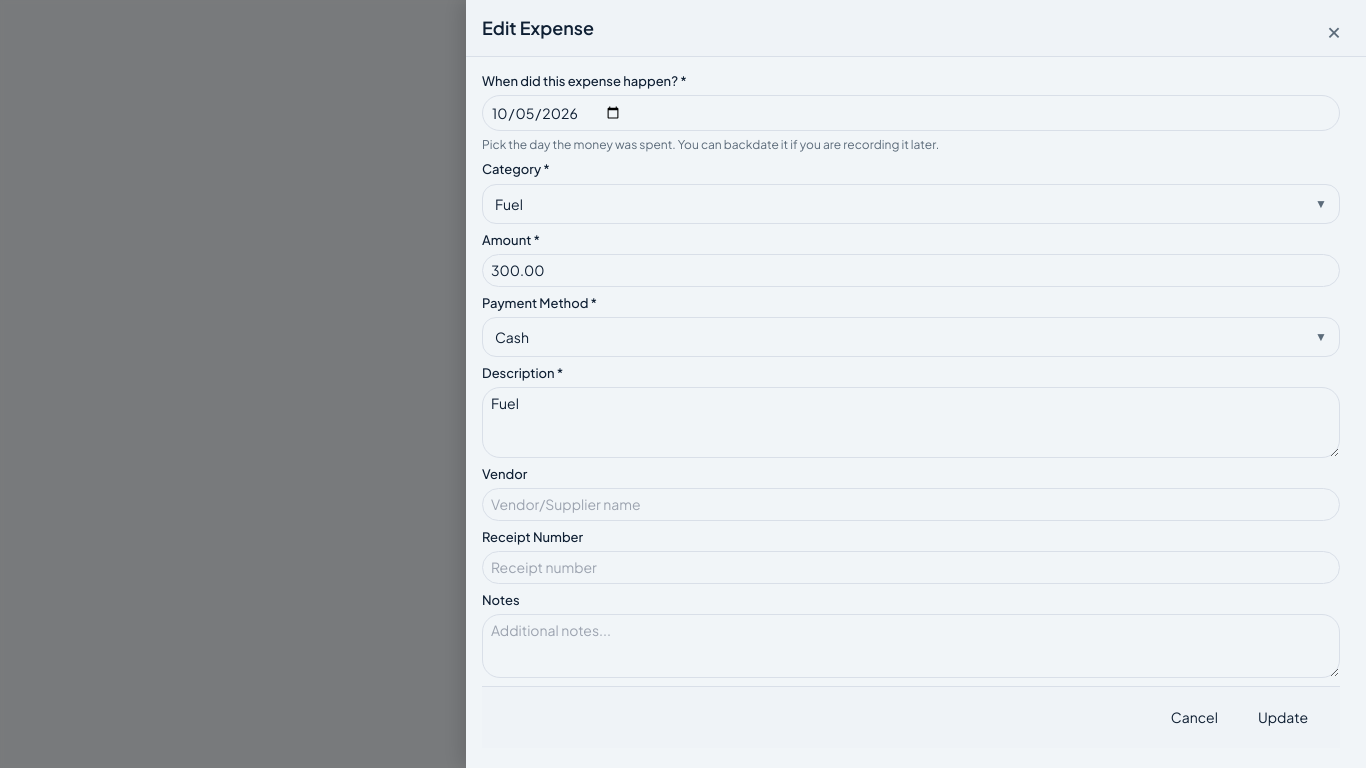
ExpenseForm save errors › asks for a reason when the server needs one the form did not show
Expected: the field labelled "reason" is not shown
What coordinates should you click on to do the following:
click the button "Update"
I would click on:
 (1283, 718)
Its box is [1242,699,1324,736].
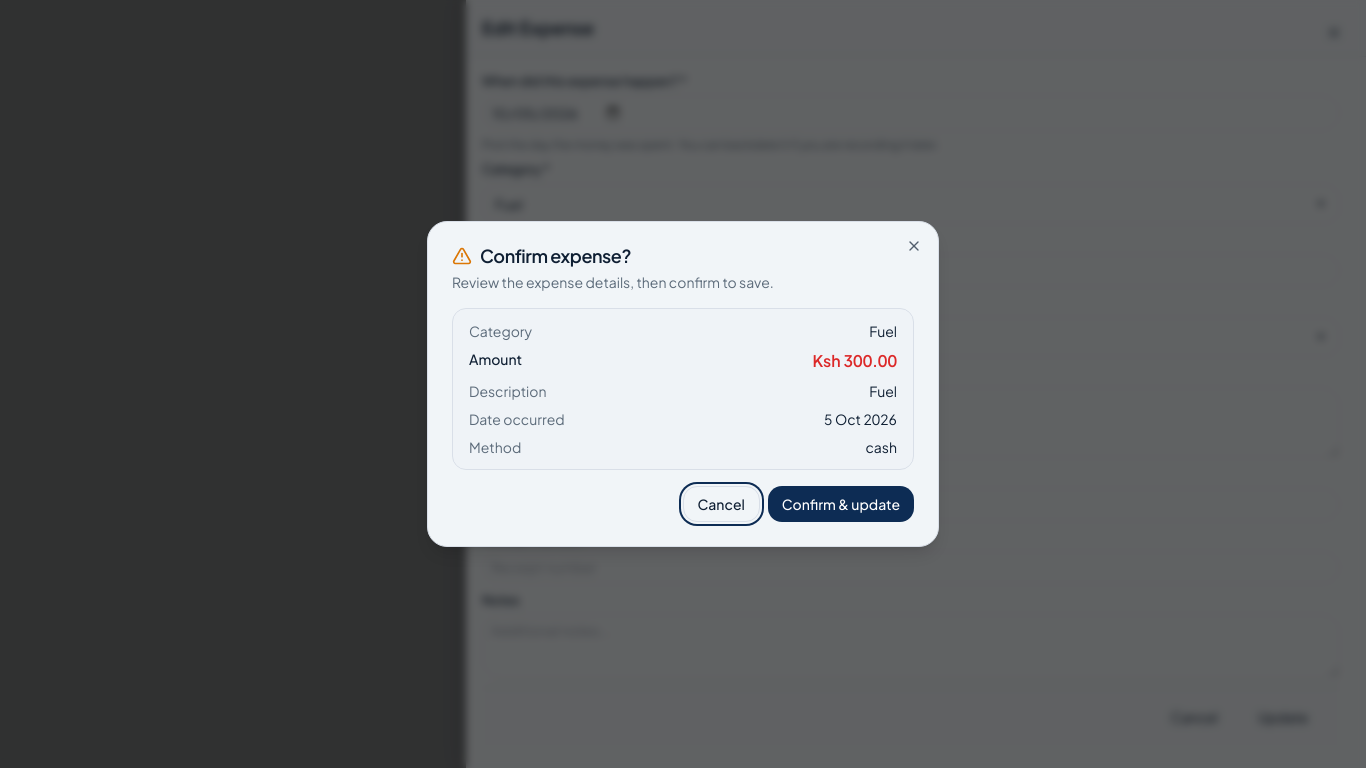
What coordinates should you click on to do the following:
click the button "Confirm & update"
I would click on:
 (841, 504)
Its box is [768,486,914,522].
(page scrolled)
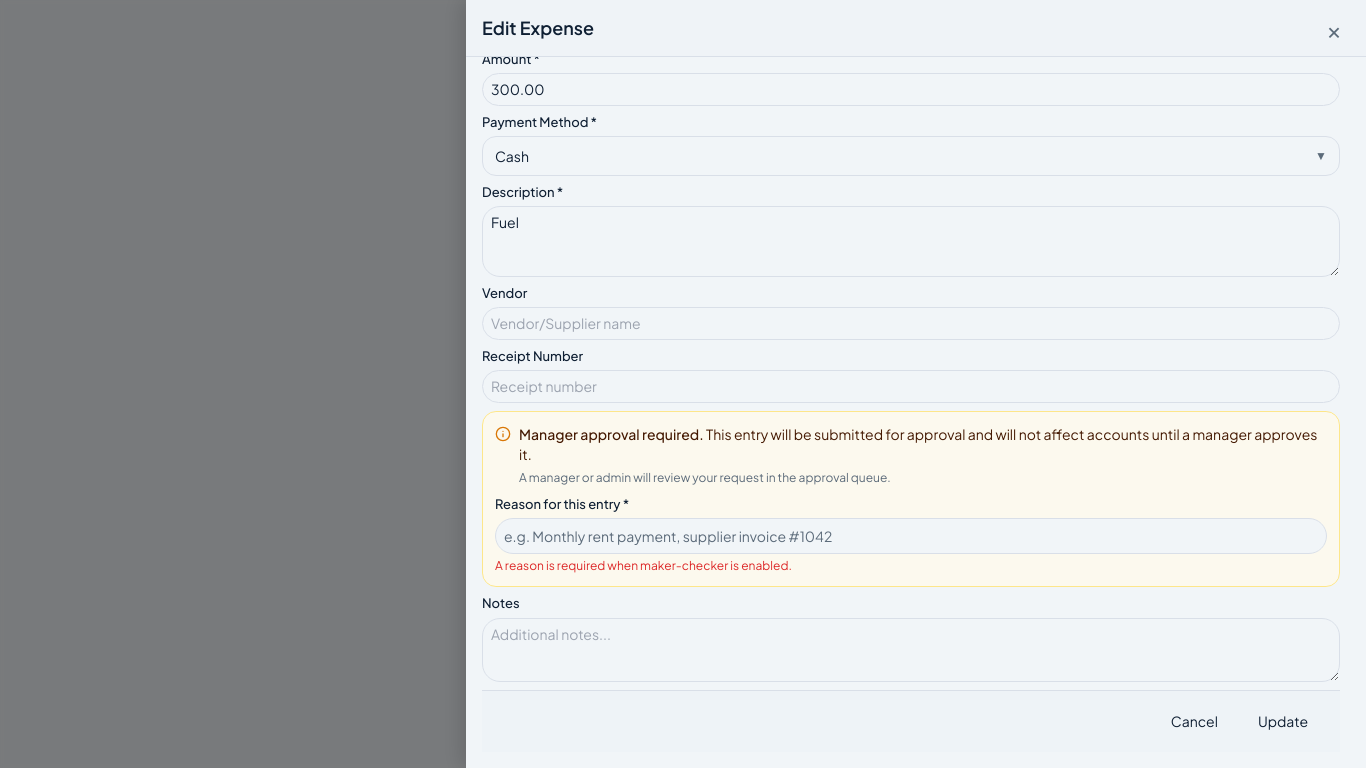
Now the field with id "change_reason" is shown, box [495,518,1327,554]
